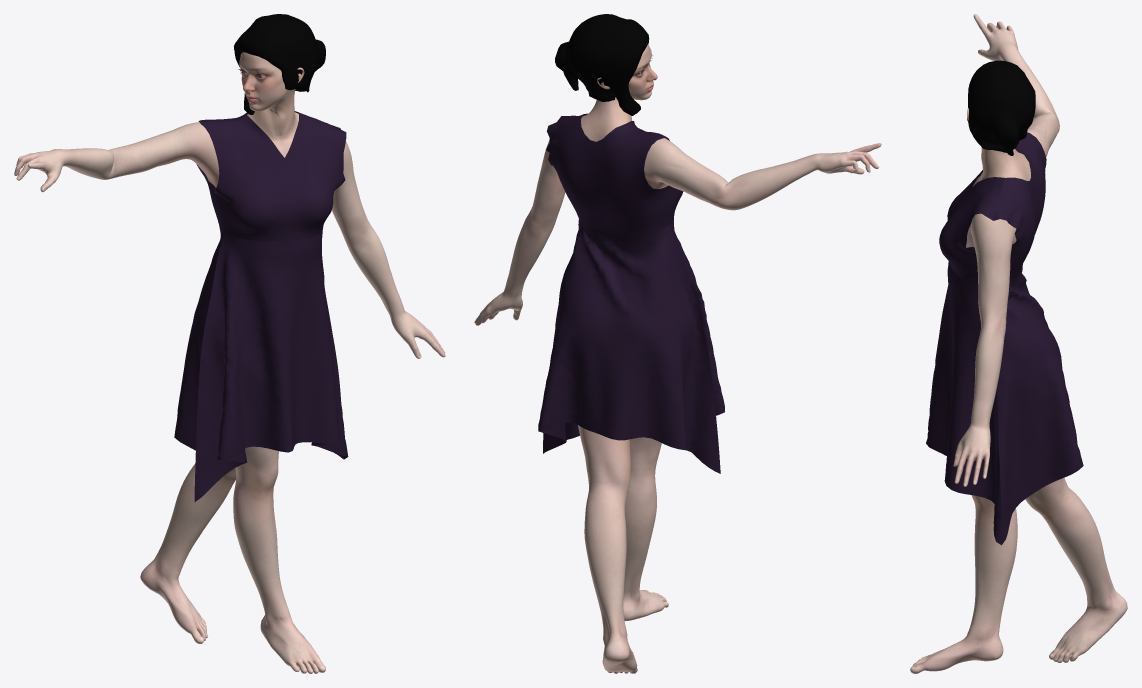
Rendered from Dynamic.obj.
3 renders of one model, left to right at view 1: azimuth 30°, elevation 25°; view 2: azimuth 150°, elevation 25°; view 3: azimuth 270°, elevation 25°, orthographic. The views are drawn at different scales.
Bounding box in the file's own units: 1226 × 1775 × 569.
